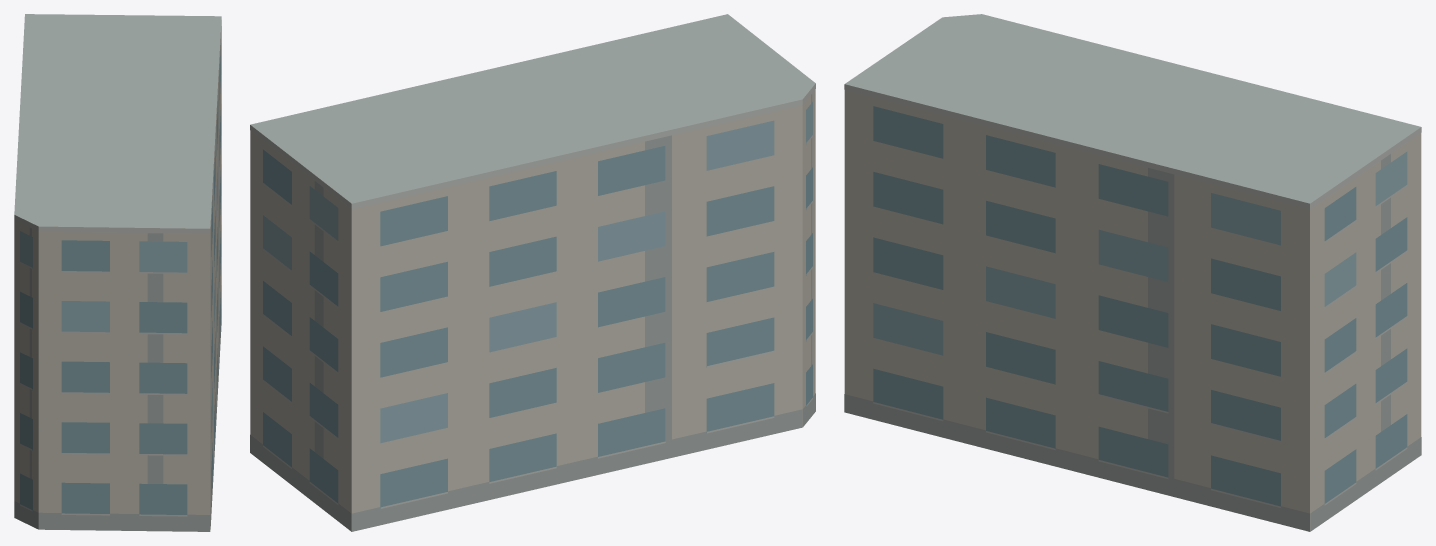
Rendered from survey-upis-32692653.glb.
3 renders of one model, left to right at view 1: azimuth 30°, elevation 25°; view 2: azimuth 150°, elevation 25°; view 3: azimuth 270°, elevation 25°, orthographic. The views are drawn at different scales.
Visible parts, largest first — view 1: survey-upis-32692653.tmp; view 2: survey-upis-32692653.tmp; view 3: survey-upis-32692653.tmp.
Boxes of the visible parts, <box> form: survey-upis-32692653.tmp: <box>14,14,221,531</box>; survey-upis-32692653.tmp: <box>250,14,815,531</box>; survey-upis-32692653.tmp: <box>844,14,1421,531</box>.
Bounding box in the file's own units: 17.45 × 14.07 × 22.43.
